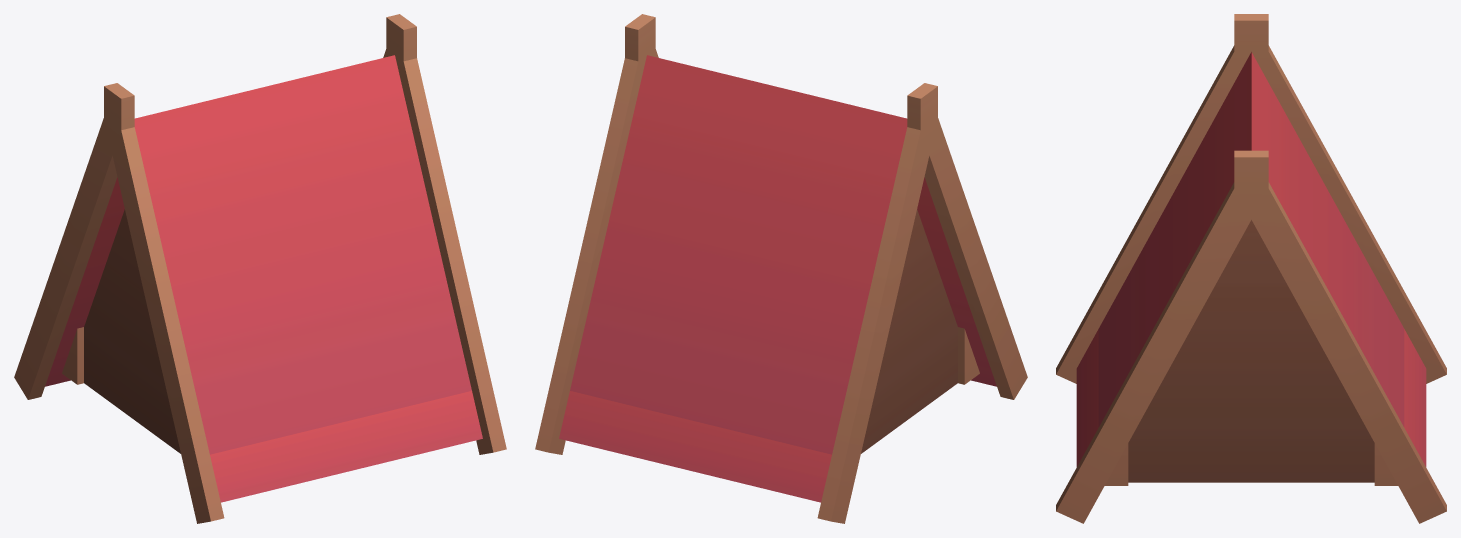
File: roof-high-gable-detail.glb
The picture shows the model from 3 angles, left to right: view 1: azimuth 30°, elevation 25°; view 2: azimuth 150°, elevation 25°; view 3: azimuth 270°, elevation 25°; orthographic projection.
Visible parts, largest first — view 1: roof-high-gable-detail; view 2: roof-high-gable-detail; view 3: roof-high-gable-detail.
Part boxes in pixels (bbox=[...]): roof-high-gable-detail: bbox=[14, 14, 506, 523]; roof-high-gable-detail: bbox=[535, 14, 1027, 523]; roof-high-gable-detail: bbox=[1056, 14, 1446, 523].
Bounding box in the file's own units: 1.1 × 1.31 × 1.27.
Materials: 1 (1 with a texture image).
